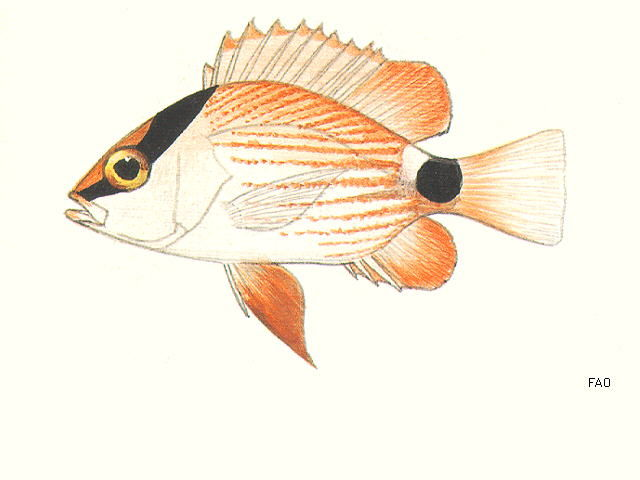fish: (64, 17, 570, 371)
